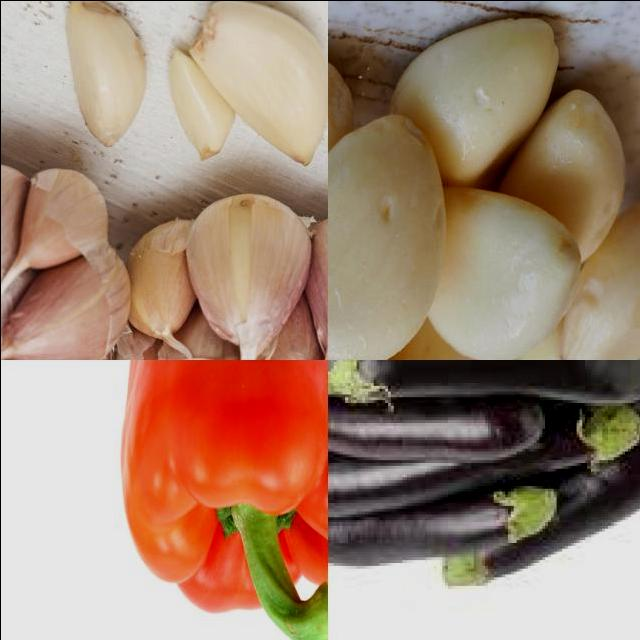bell_pepper: (117, 360, 328, 640)
eggplant: (451, 409, 640, 589), (328, 417, 628, 520), (328, 489, 560, 566), (328, 403, 545, 466), (348, 360, 640, 406)
garlic: (328, 14, 640, 360), (111, 190, 328, 360), (1, 148, 118, 360), (189, 1, 328, 169), (64, 1, 150, 151), (162, 40, 234, 161)
